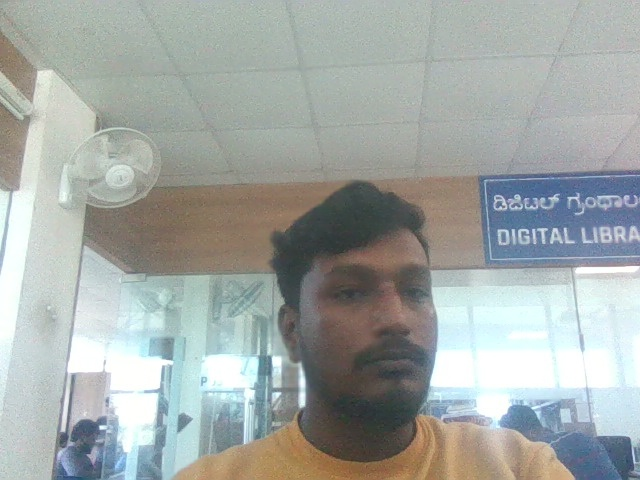real: (275, 163, 462, 428)
